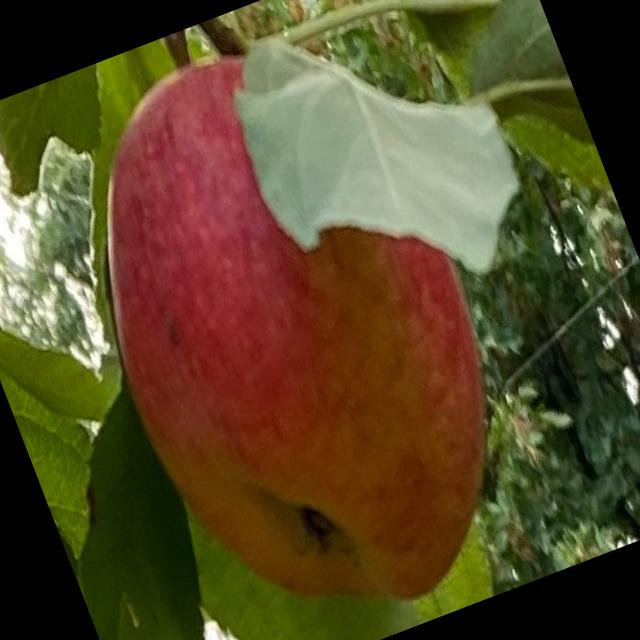Apples: (32, 2, 561, 639)
